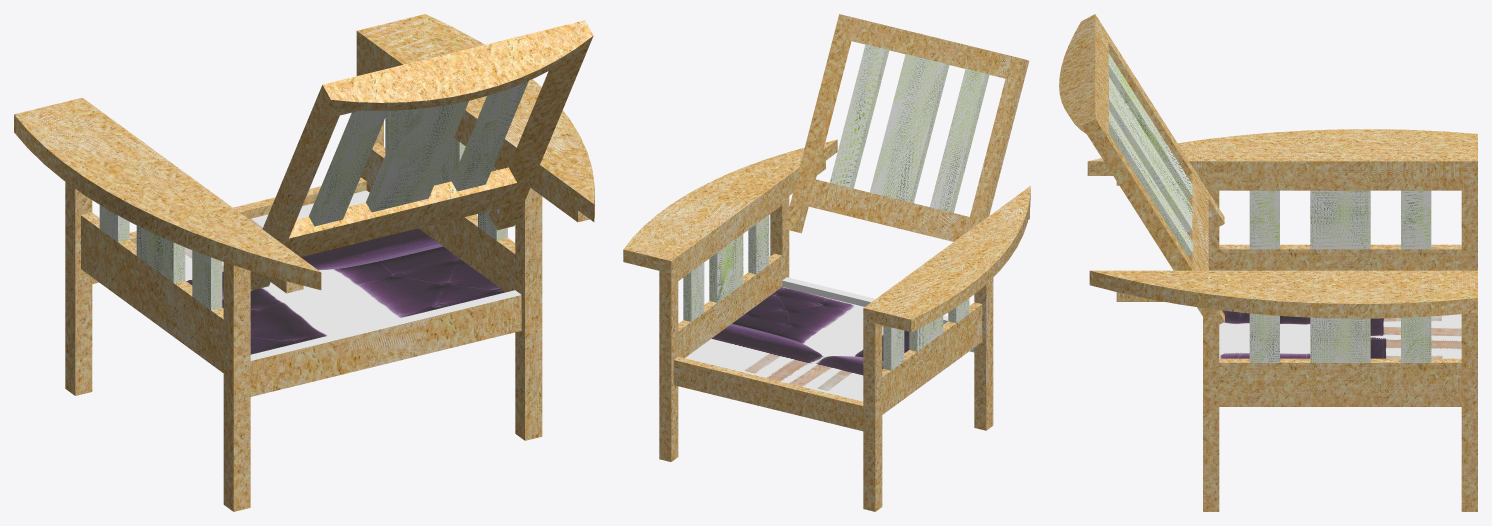
3 renders of one model, left to right at view 1: azimuth 30°, elevation 25°; view 2: azimuth 150°, elevation 25°; view 3: azimuth 270°, elevation 25°, orthographic. The views are drawn at different scales.
Visible parts, largest first — view 1: mesh1_mesh1-geometry, mesh2_mesh2-geometry; view 2: mesh1_mesh1-geometry, mesh2_mesh2-geometry; view 3: mesh1_mesh1-geometry, mesh2_mesh2-geometry.
Boxes of the visible parts, x1=… form: mesh1_mesh1-geometry: x1=14, y1=14, x2=594, y2=511; mesh2_mesh2-geometry: x1=250, y1=20, x2=593, y2=290; mesh1_mesh1-geometry: x1=623, y1=139, x2=1030, y2=511; mesh2_mesh2-geometry: x1=784, y1=14, x2=1029, y2=241; mesh1_mesh1-geometry: x1=1087, y1=129, x2=1477, y2=511; mesh2_mesh2-geometry: x1=1059, y1=14, x2=1224, y2=324.
Size of the model in its own units: 0.5701 by 0.5843 by 0.5775.
